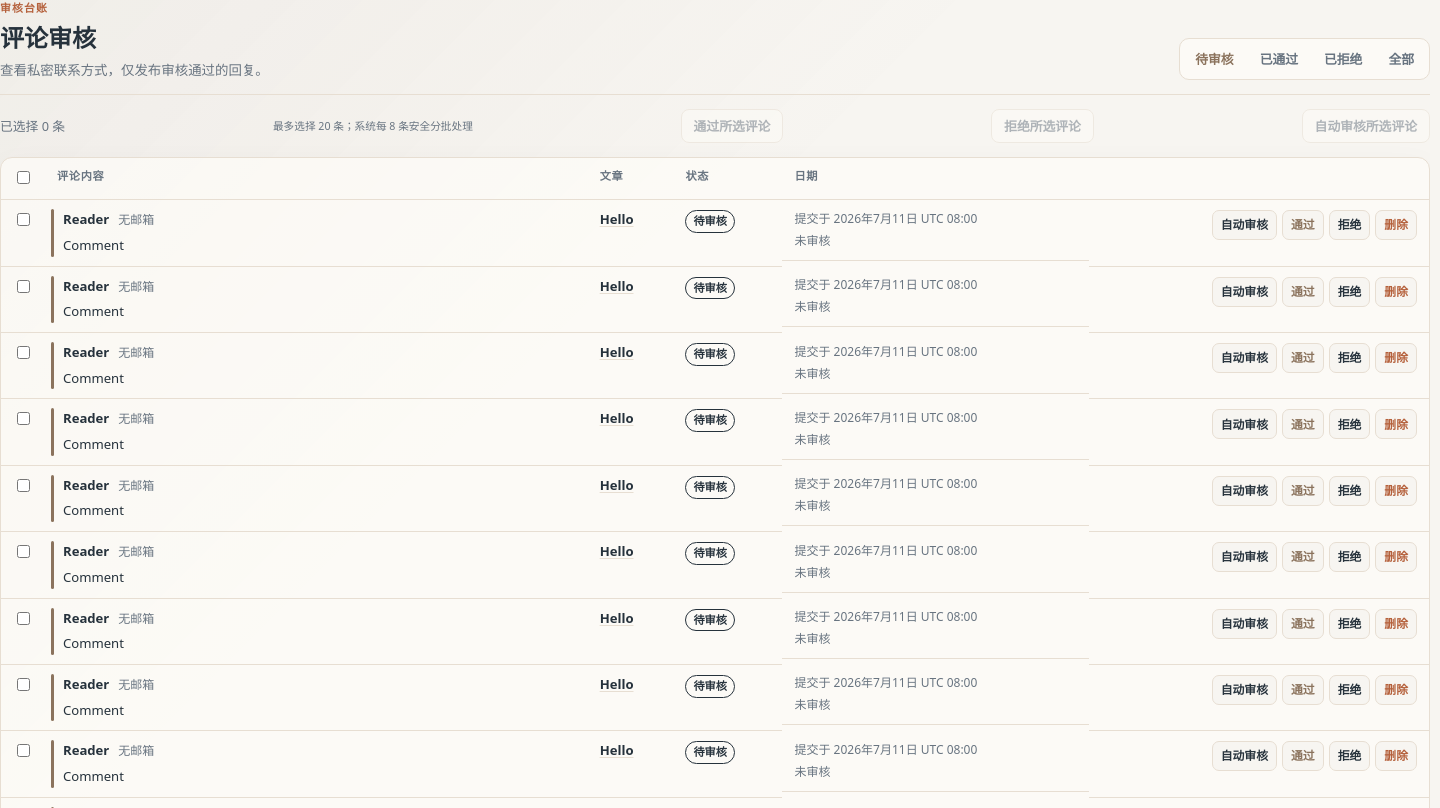
Test: CommentModerationView › keeps unsent selections and reports partial progress when a later batch fails
This screenshot has width=1440, height=808.
Step 1. Click the checkbox with test id "comment-select-page" → (24, 178), box [17,172,30,184]
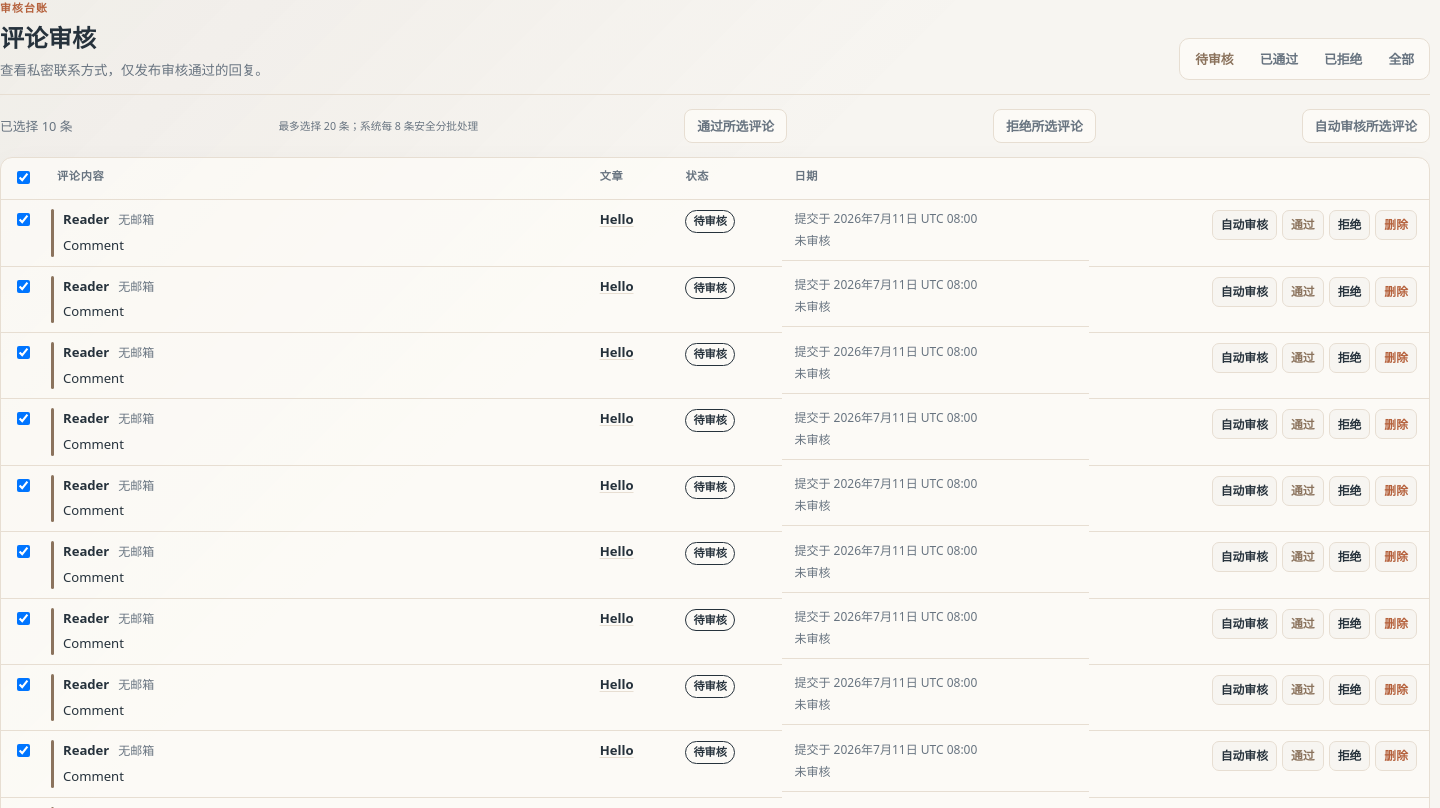
Step 2. Click the button with test id "comment-auto-moderate-selected" → (1366, 126), box [1302,110,1430,144]
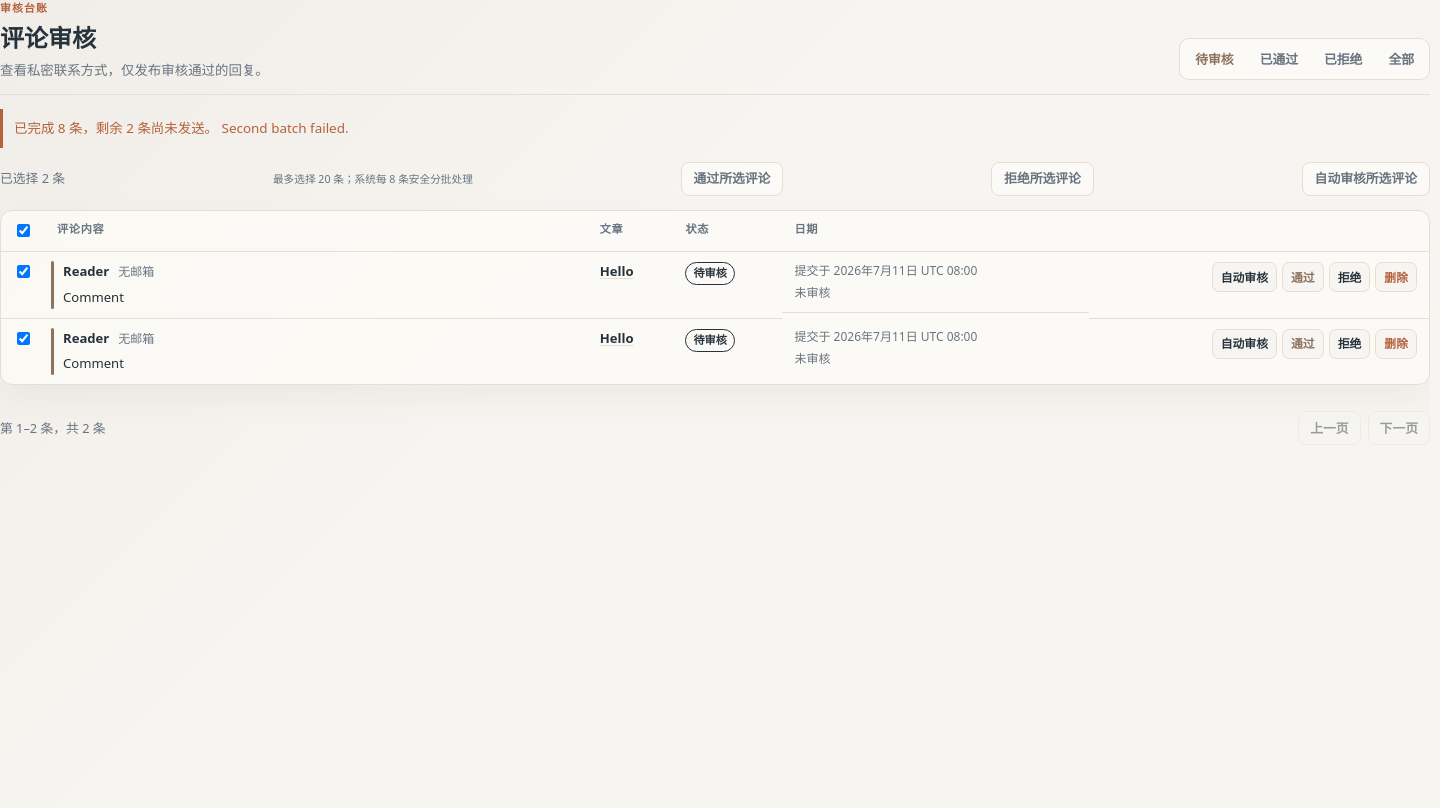
Result: the message with test id "comment-action-error" reads "已完成 8 条，剩余 2 条尚未发送。 Second batch failed." at [14,120,349,138]
Result: the text "已选择 2 条" is shown at [0,169,65,188]
